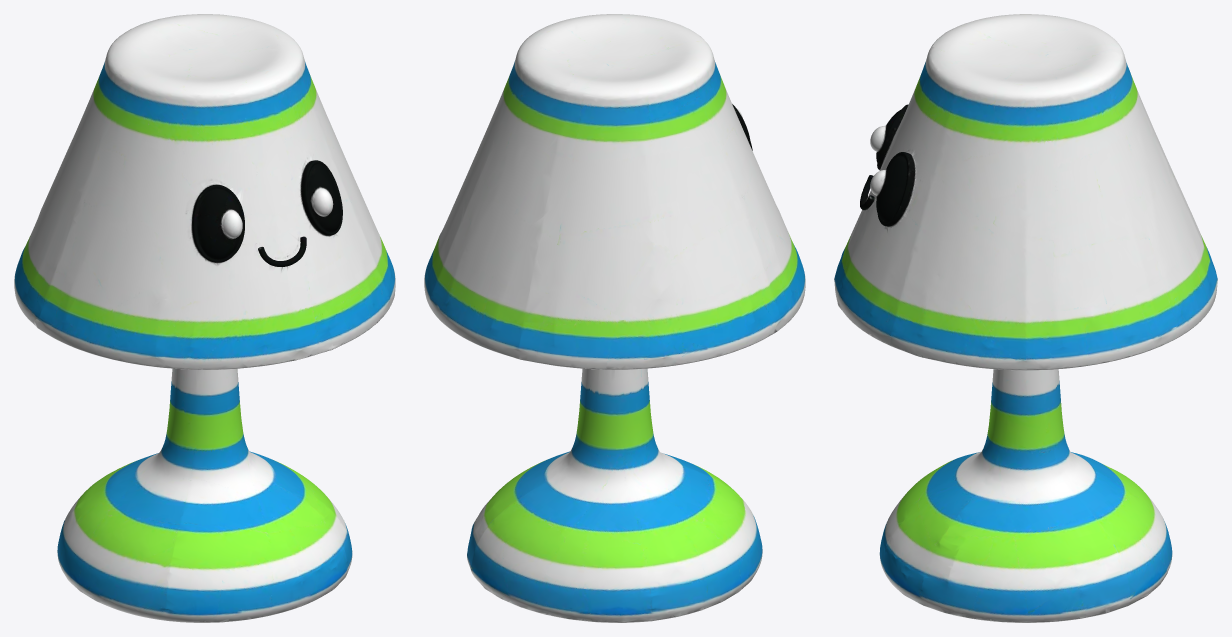
The model's file is lamp.glb.
3 views of the same model, side by side, from view 1: azimuth 30°, elevation 25°; view 2: azimuth 150°, elevation 25°; view 3: azimuth 270°, elevation 25° (orthographic).
Size of the model in its own units: 1.29 by 1.9 by 1.29.
Materials: 1 (1 with a texture image).
